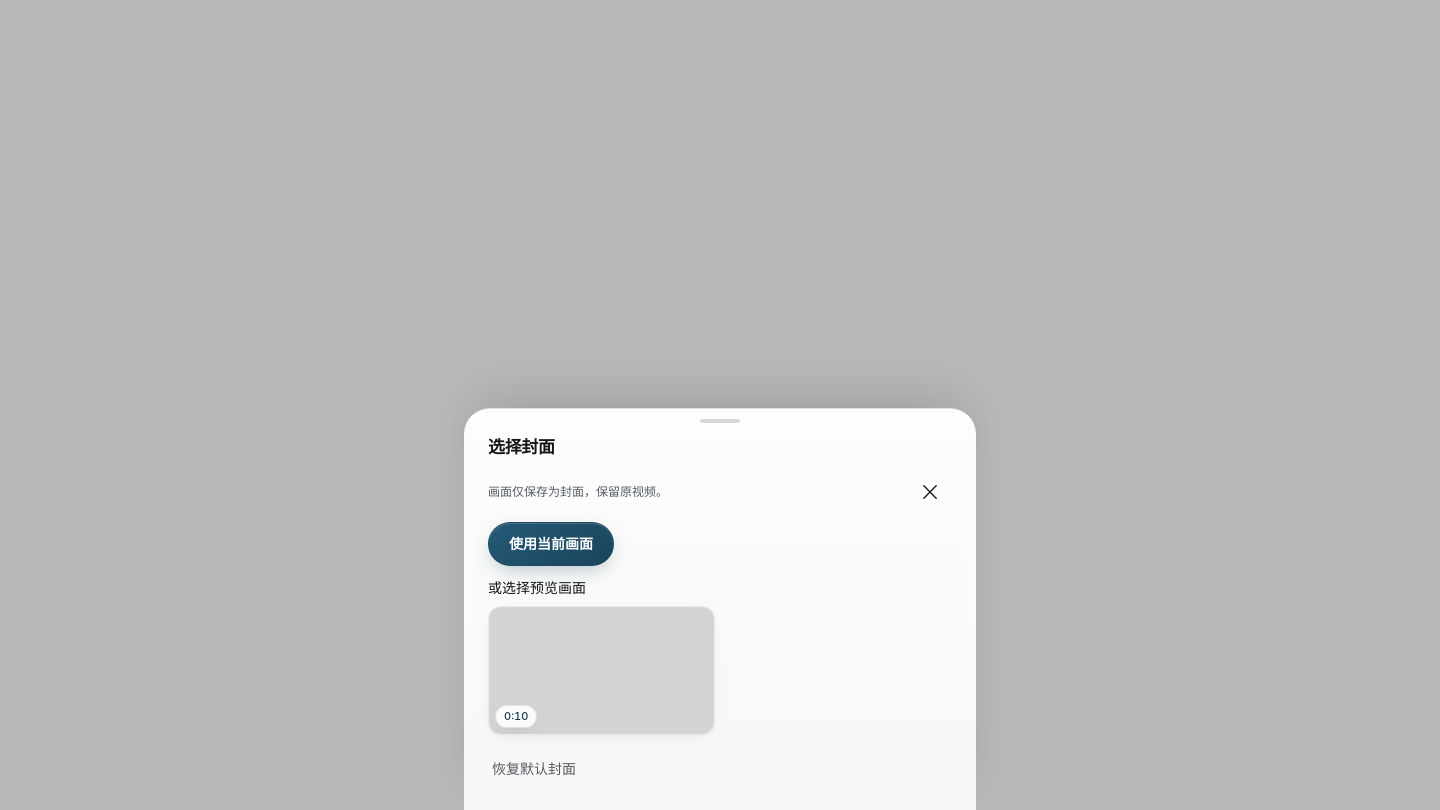
refuses an old preview image while its replacement is still loading
The width and height of the screenshot is (1440, 810).
Click the button named "使用 0:10 的画面". click: (602, 671)
box: 488,606 -> 715,735
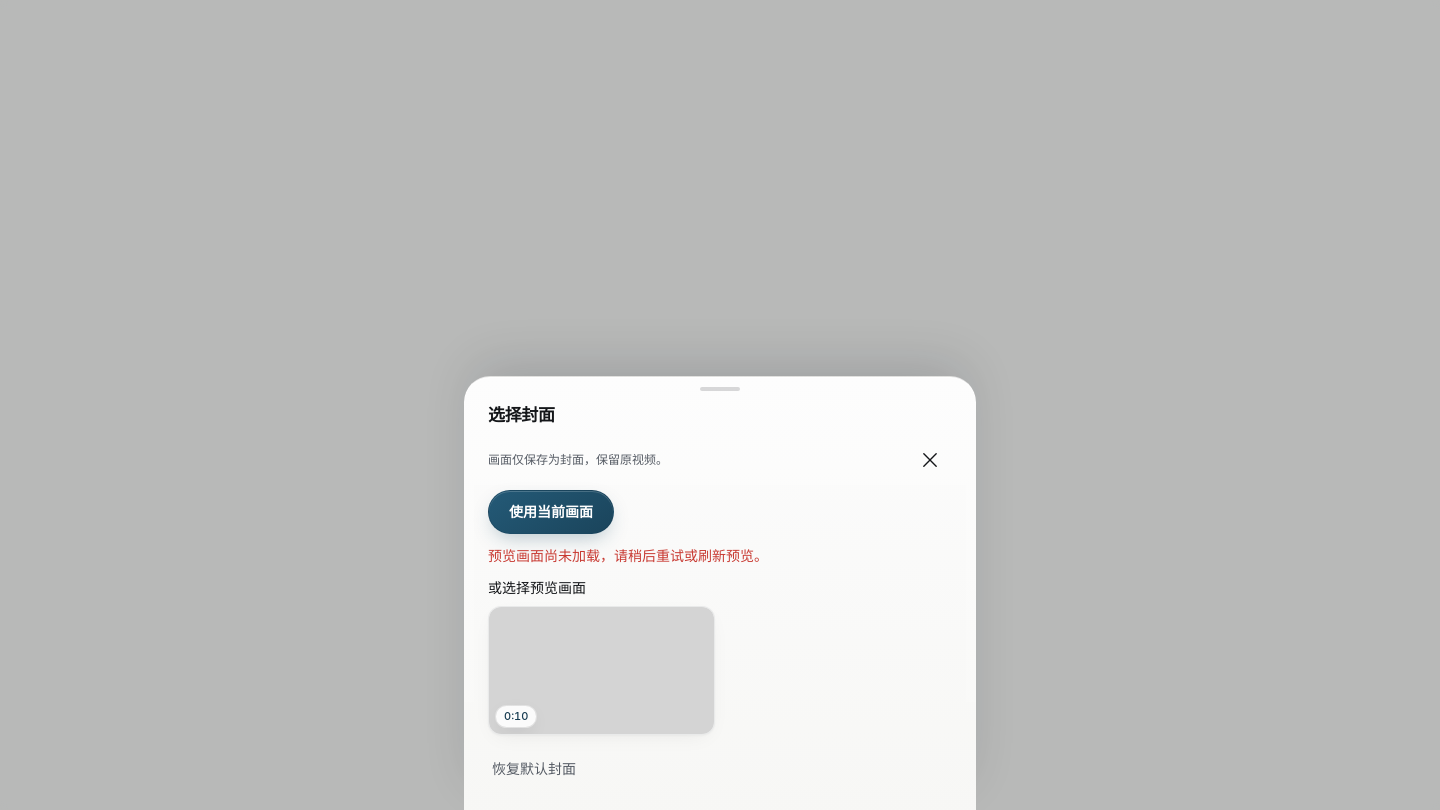
Now the message "预览画面尚未加载，请稍后重试或刷新预览。" is shown, box 488,547 -> 768,564
